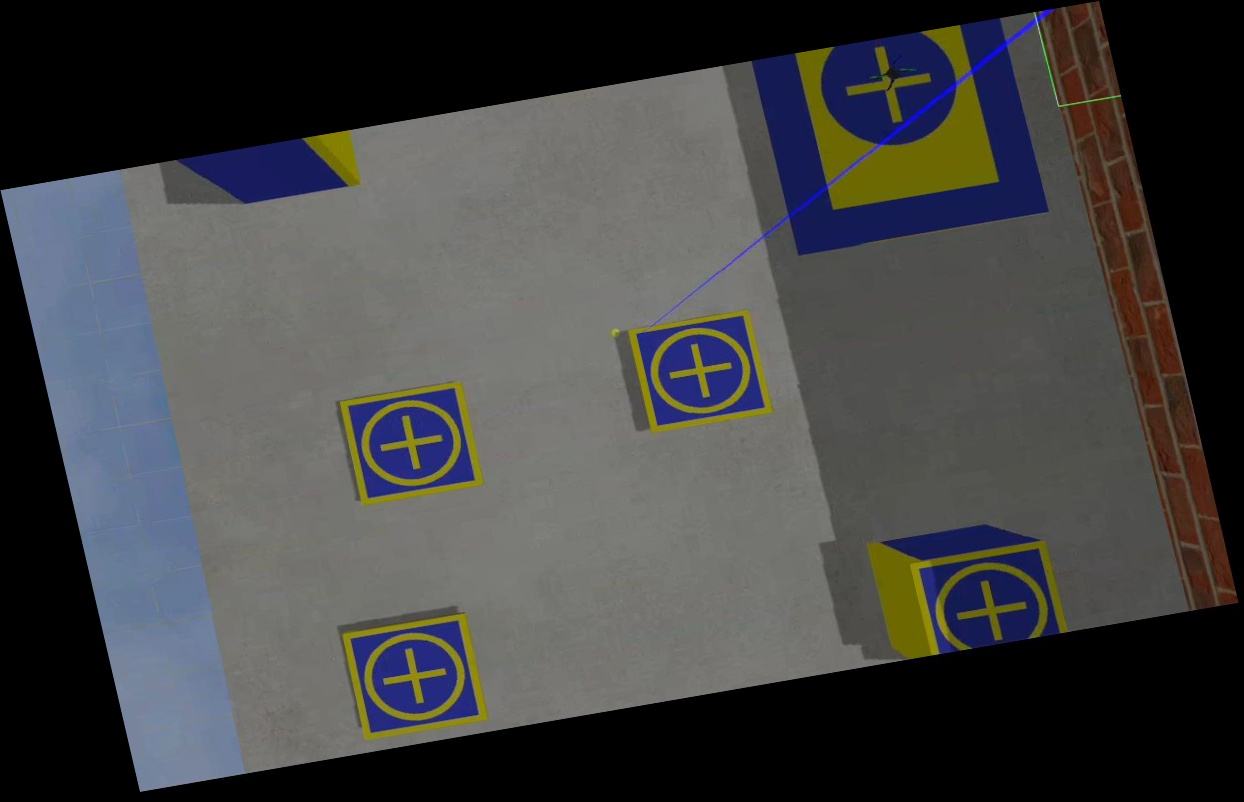large_base: (751, 17, 1053, 258)
small_base: (340, 610, 494, 743), (623, 307, 776, 436), (336, 380, 487, 510), (906, 536, 1064, 657)
